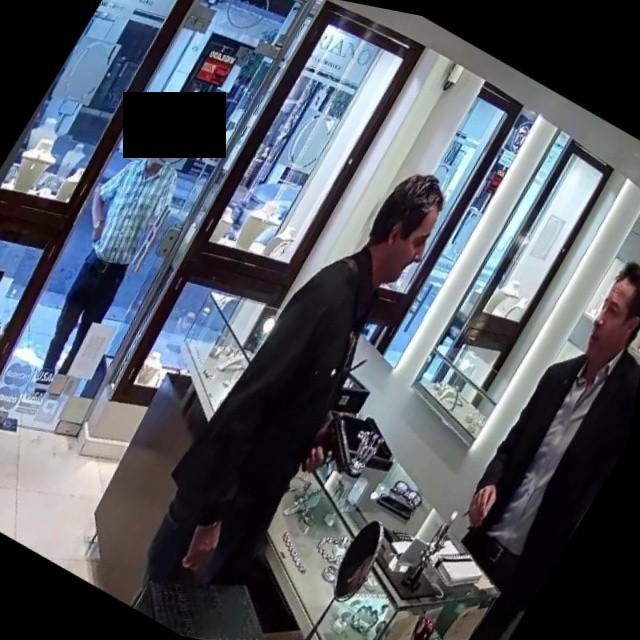gun: (278, 381, 401, 533)
